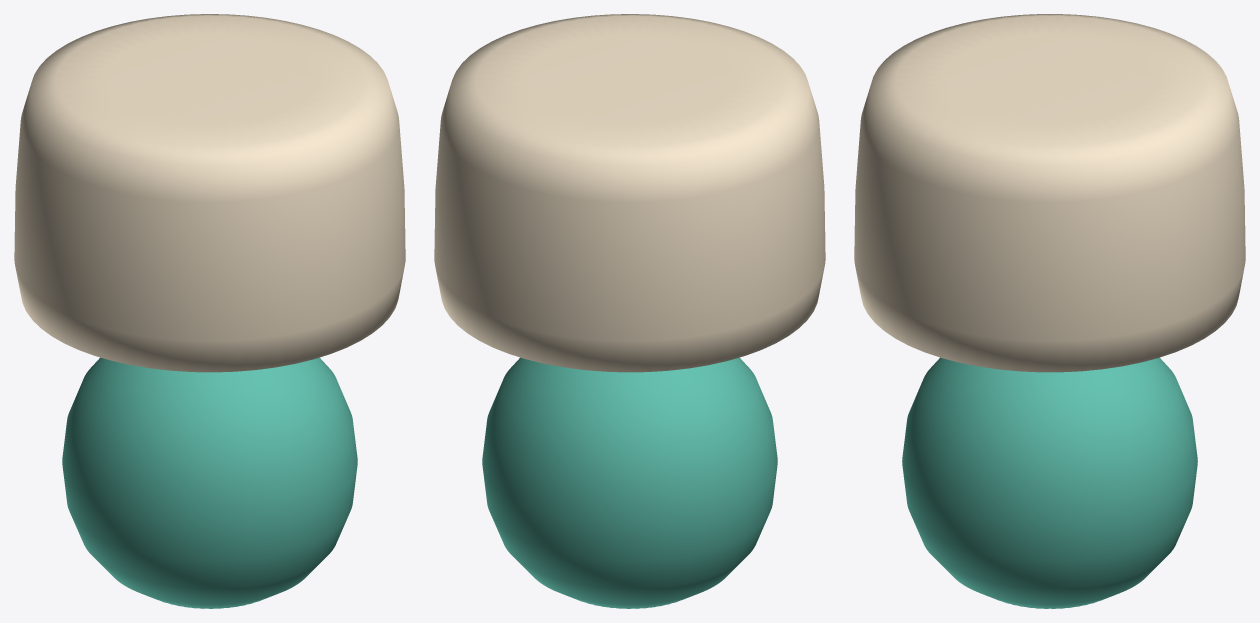
Rendered from lamp_a.glb.
3 renders of one model, left to right at view 1: azimuth 30°, elevation 25°; view 2: azimuth 150°, elevation 25°; view 3: azimuth 270°, elevation 25°, orthographic.
Visible parts, largest first — view 1: body; view 2: body; view 3: body.
Boxes of the visible parts, x1,y1,x2,y2 form: body: (14, 14, 405, 608); body: (434, 14, 825, 608); body: (854, 14, 1245, 608).
Bounding box in the file's own units: 0.317 × 0.452 × 0.317.
